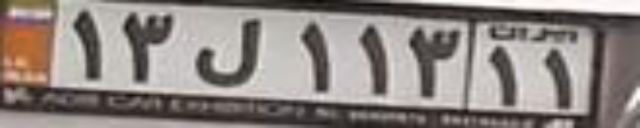1: (353, 22, 388, 94), (71, 9, 102, 79), (539, 46, 574, 108), (298, 20, 328, 91), (487, 45, 515, 106)
3: (405, 27, 459, 98), (121, 10, 173, 82)
lam: (191, 16, 263, 88)
